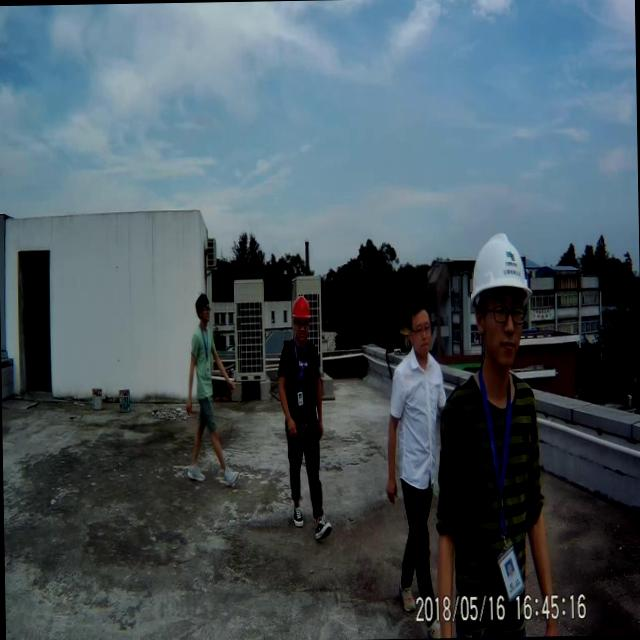goggles: (478, 292, 538, 328)
helmet: (466, 230, 536, 304), (288, 290, 318, 324)
no-helmet: (407, 300, 431, 336), (189, 290, 213, 318)
no-vest: (457, 366, 539, 557), (397, 346, 444, 476), (286, 332, 318, 428), (193, 320, 218, 382)
